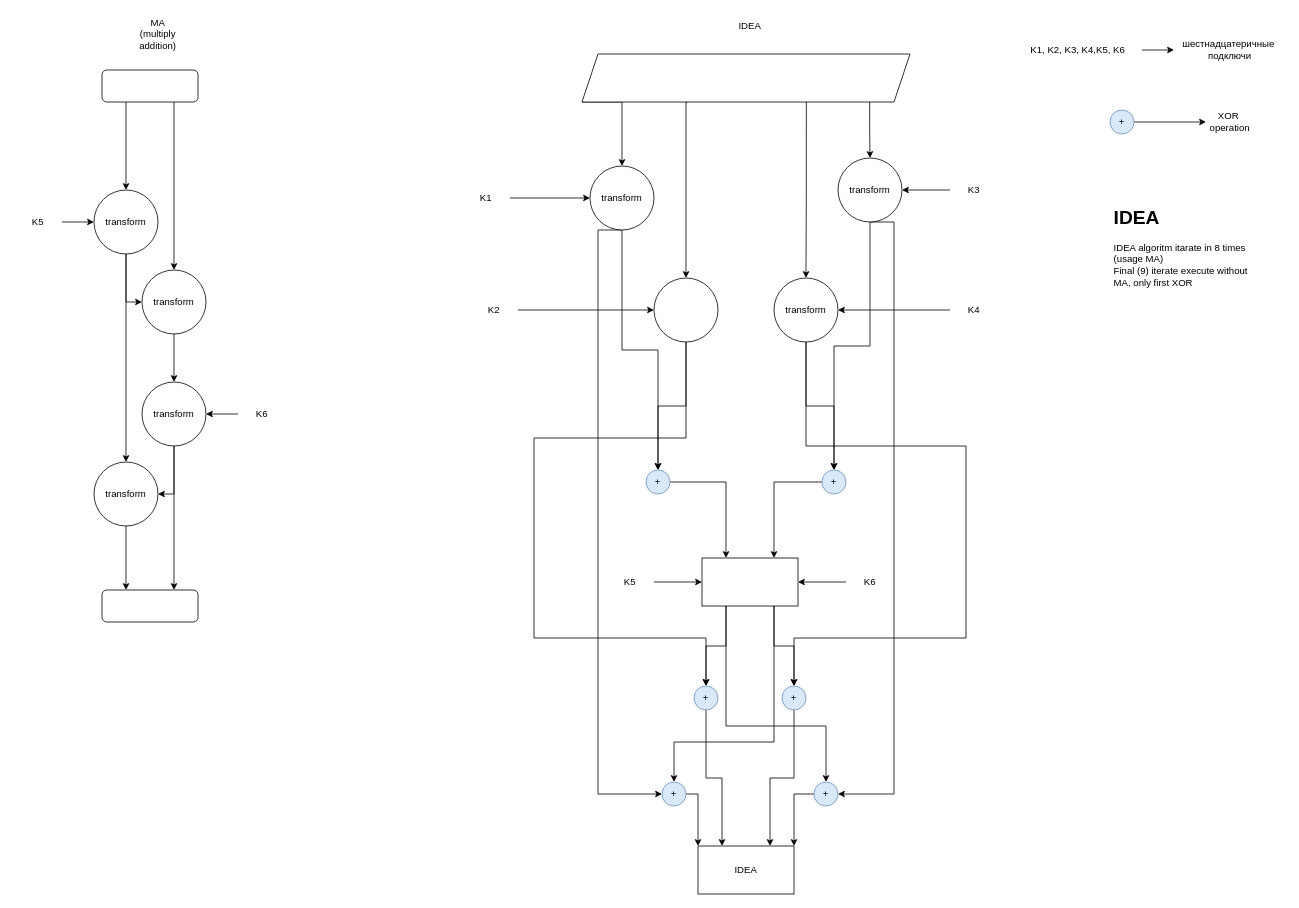
This 1299x908 diagram has some shape labels left out. The centre of each missing label's shape, as x and y in pixels:
"C1, C2" goes at (x=149, y=605).
"MA" goes at (x=749, y=581).
"P1, P2" goes at (x=149, y=85).
"P1, P2, P3, P4" goes at (x=745, y=77).
"transorm" goes at (x=685, y=309).
